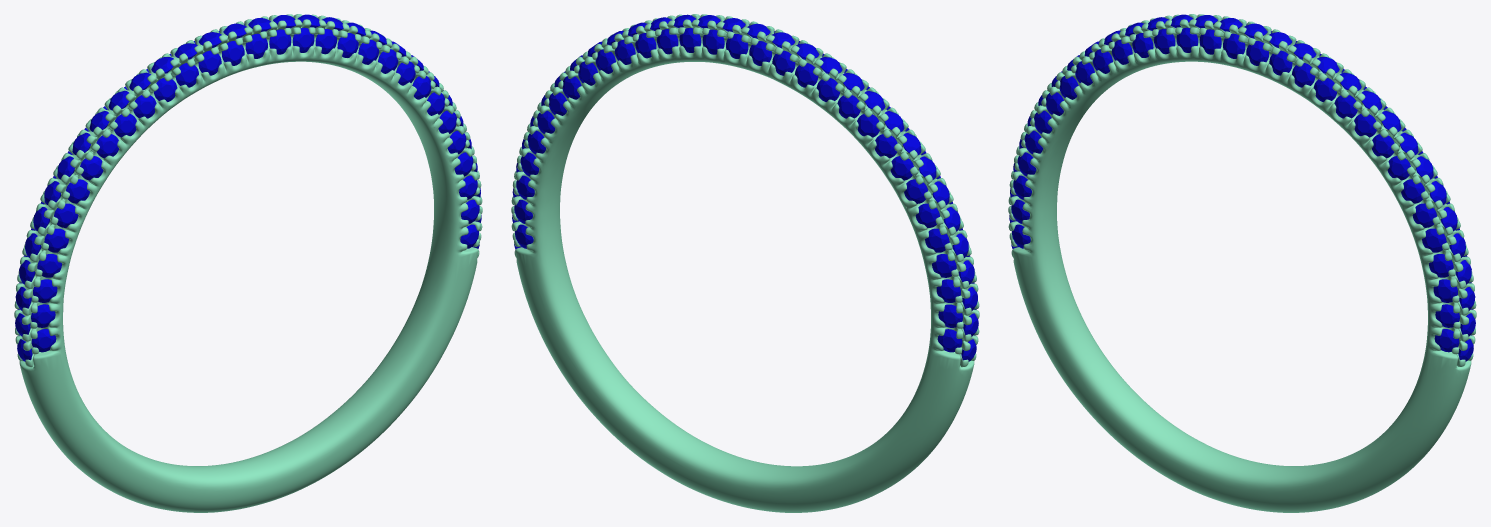
The picture shows the model from 3 angles, left to right: view 1: azimuth 30°, elevation 25°; view 2: azimuth 150°, elevation 25°; view 3: azimuth 330°, elevation 25°; orthographic projection.
Parts seen in each view (by area): view 1: Metal03; view 2: Metal03; view 3: Metal03.
Part boxes in pixels (x1=…): Metal03: x1=14, y1=14, x2=482, y2=512; Metal03: x1=511, y1=14, x2=979, y2=512; Metal03: x1=1008, y1=14, x2=1476, y2=512.
Size of the model in its own units: 20.9 by 20.91 by 1.87.
